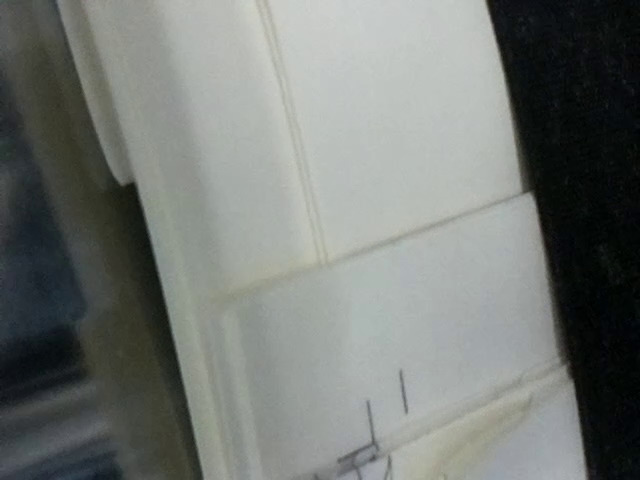misaligned: (301, 399, 397, 480)
